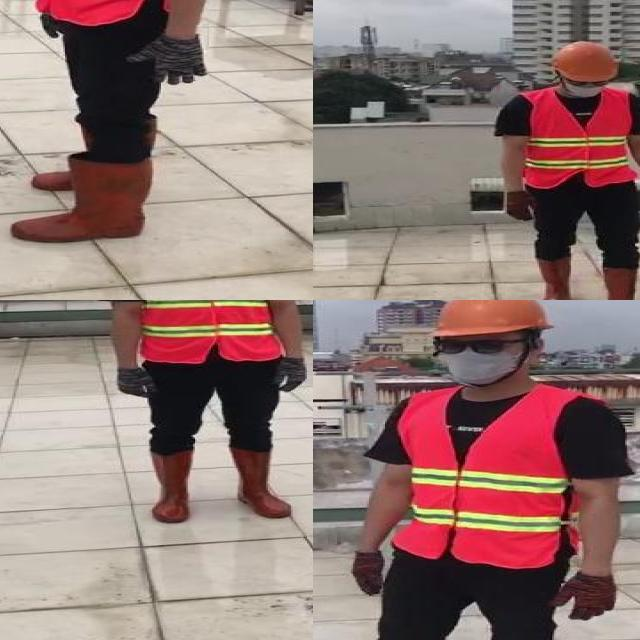boots: (12, 157, 154, 245), (225, 444, 293, 519), (144, 451, 196, 526), (531, 254, 574, 300), (597, 267, 640, 300)
face_mask: (433, 334, 520, 386), (565, 76, 607, 100)
glasses: (430, 336, 508, 356), (560, 75, 616, 89)
hand_glove: (124, 33, 209, 85), (550, 576, 616, 620), (346, 549, 388, 598), (108, 367, 158, 399), (503, 192, 538, 222), (280, 356, 309, 392), (35, 12, 65, 40)
head_helmet: (428, 300, 556, 337), (549, 41, 620, 83)
person: (313, 300, 631, 640), (0, 0, 235, 257), (90, 300, 313, 533), (489, 38, 640, 300)
vest: (398, 385, 576, 568), (521, 89, 635, 187), (130, 300, 287, 361)
